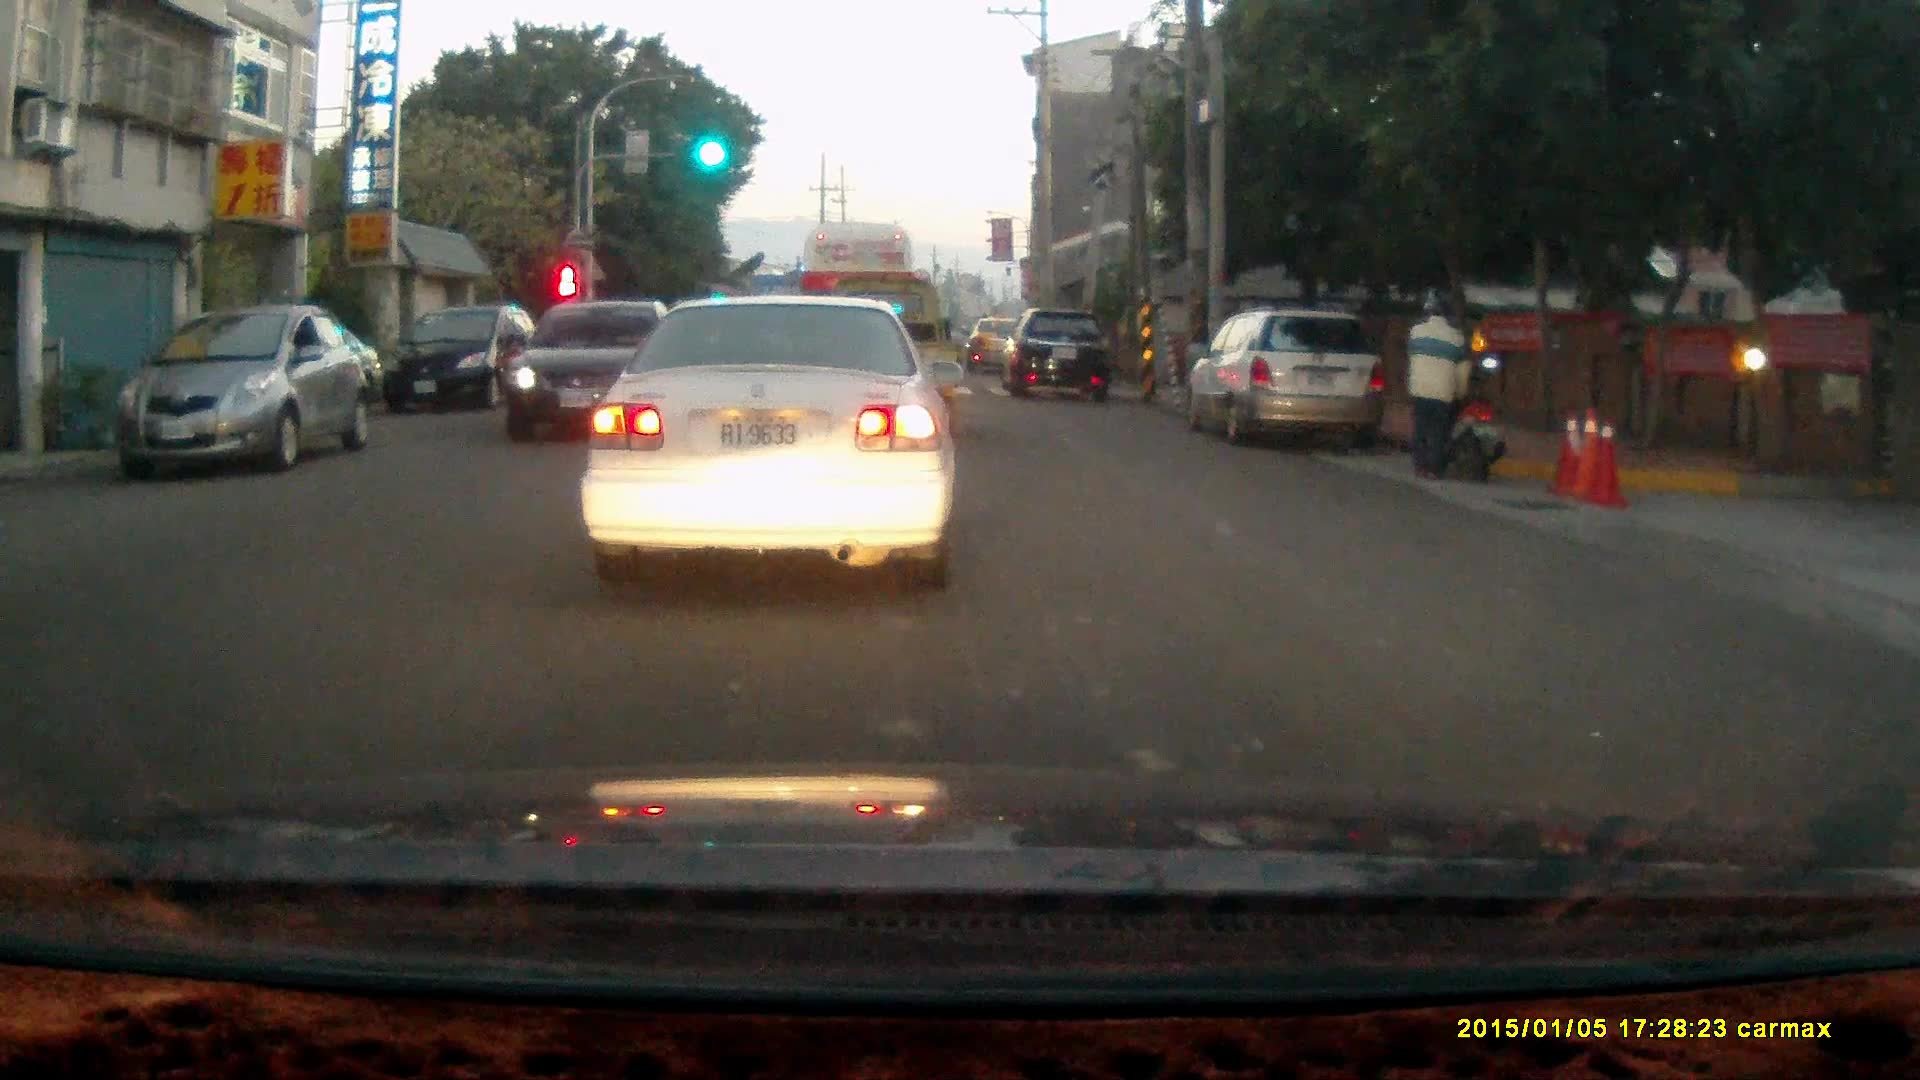pedestrian: (1400, 293, 1475, 484)
vehicle: (584, 273, 958, 567), (109, 300, 373, 472), (1194, 308, 1394, 449), (510, 299, 690, 441), (797, 213, 916, 377), (373, 305, 544, 411), (1009, 305, 1118, 398)
